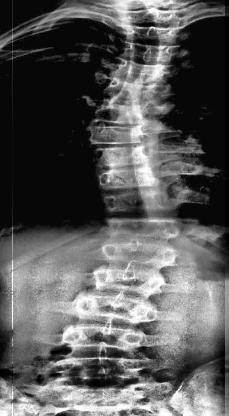Vertebrae: (52, 356, 150, 387), (74, 294, 162, 326), (65, 320, 147, 352), (105, 240, 183, 268), (92, 120, 170, 148), (95, 260, 159, 292), (110, 215, 180, 243), (106, 189, 176, 217), (102, 166, 171, 192), (96, 95, 170, 118), (98, 144, 172, 166), (118, 5, 186, 25), (120, 57, 172, 83), (108, 76, 166, 98), (123, 23, 185, 43), (123, 44, 186, 62)
